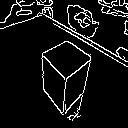cube: (32, 36, 95, 116)
